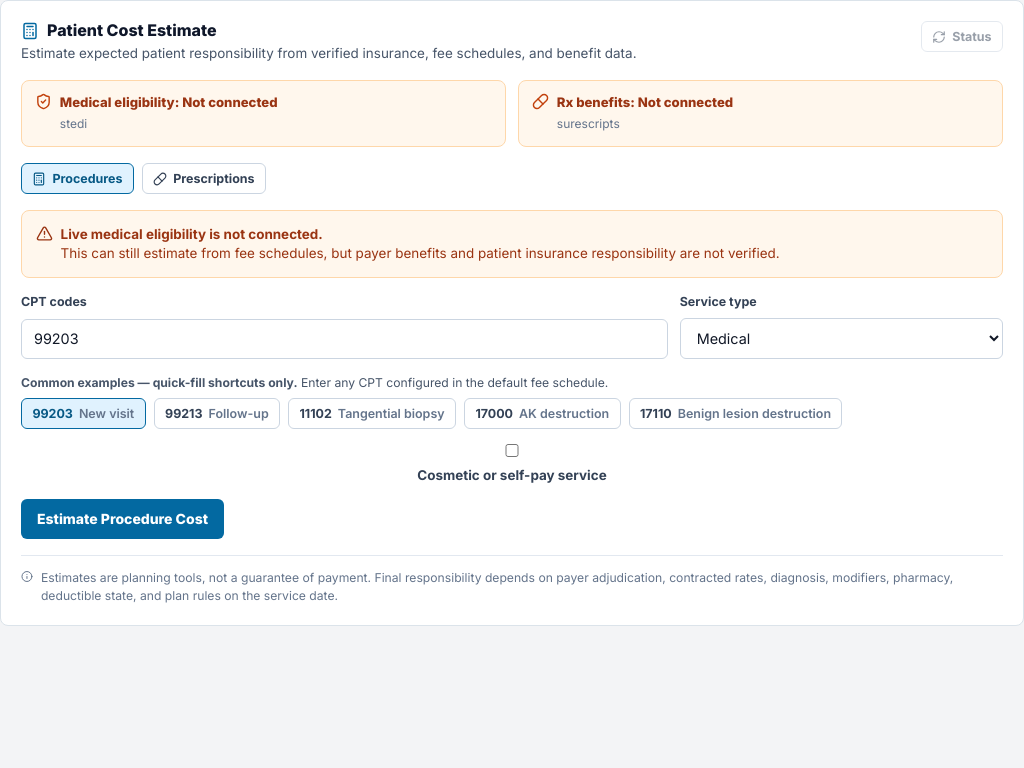
Test: PatientCostEstimatePanel › shows charge, allowed, insurance, and patient estimates for every CPT line with matching totals
The image size is (1024, 768).
Replace the text in the field labelled "CPT codes" with "99203, 11102". click: x=344, y=339
box: x1=21 y1=319 x2=668 y2=359
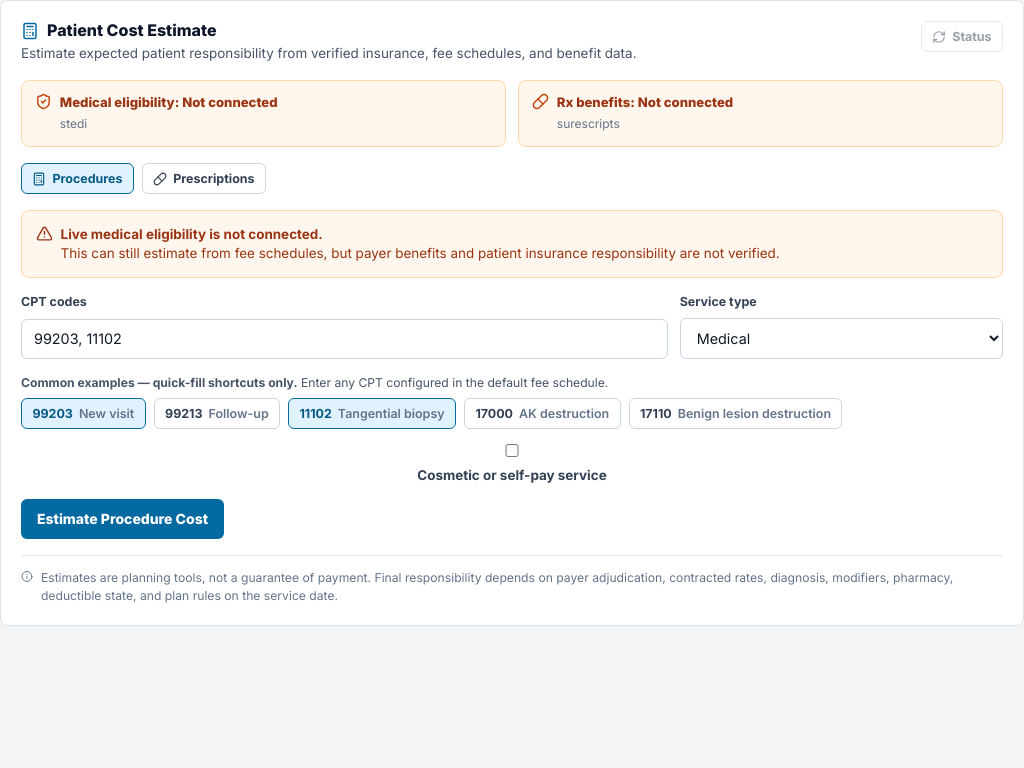
Click the button "Estimate Procedure Cost". click: x=122, y=519
box: x1=21 y1=499 x2=224 y2=539
(page scrolled)
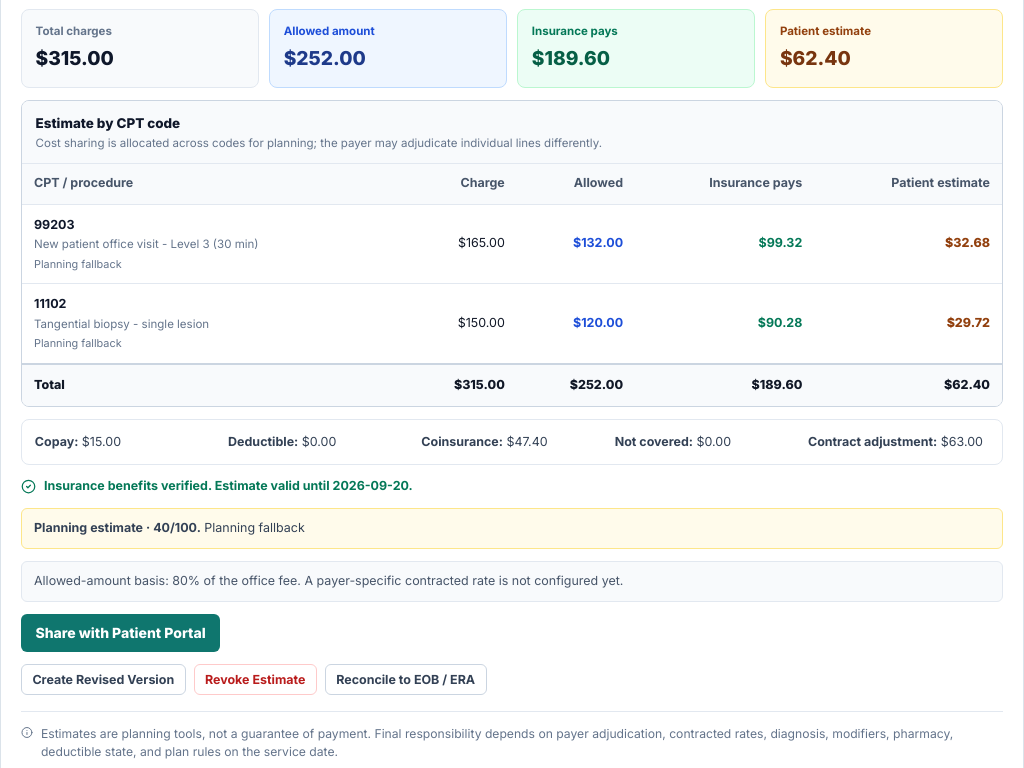
Expected: the text "99203" is shown, x1=34 y1=217 x2=74 y2=232
Expected: the text "$165.00" is shown, x1=402 y1=204 x2=517 y2=284
Expected: the text "$132.00" is shown, x1=517 y1=204 x2=635 y2=284
